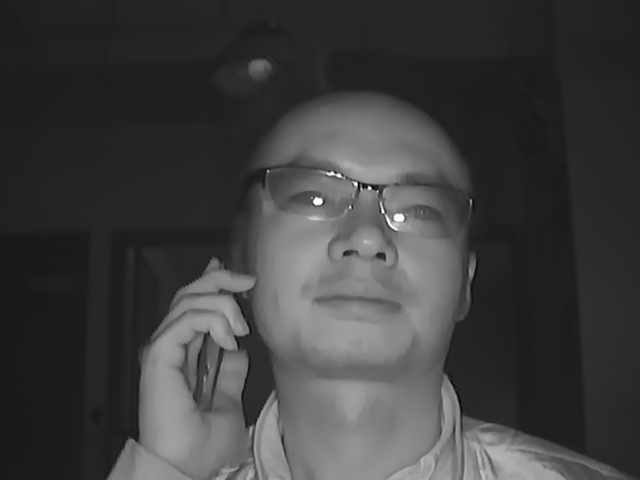hand: (130, 262, 253, 457)
